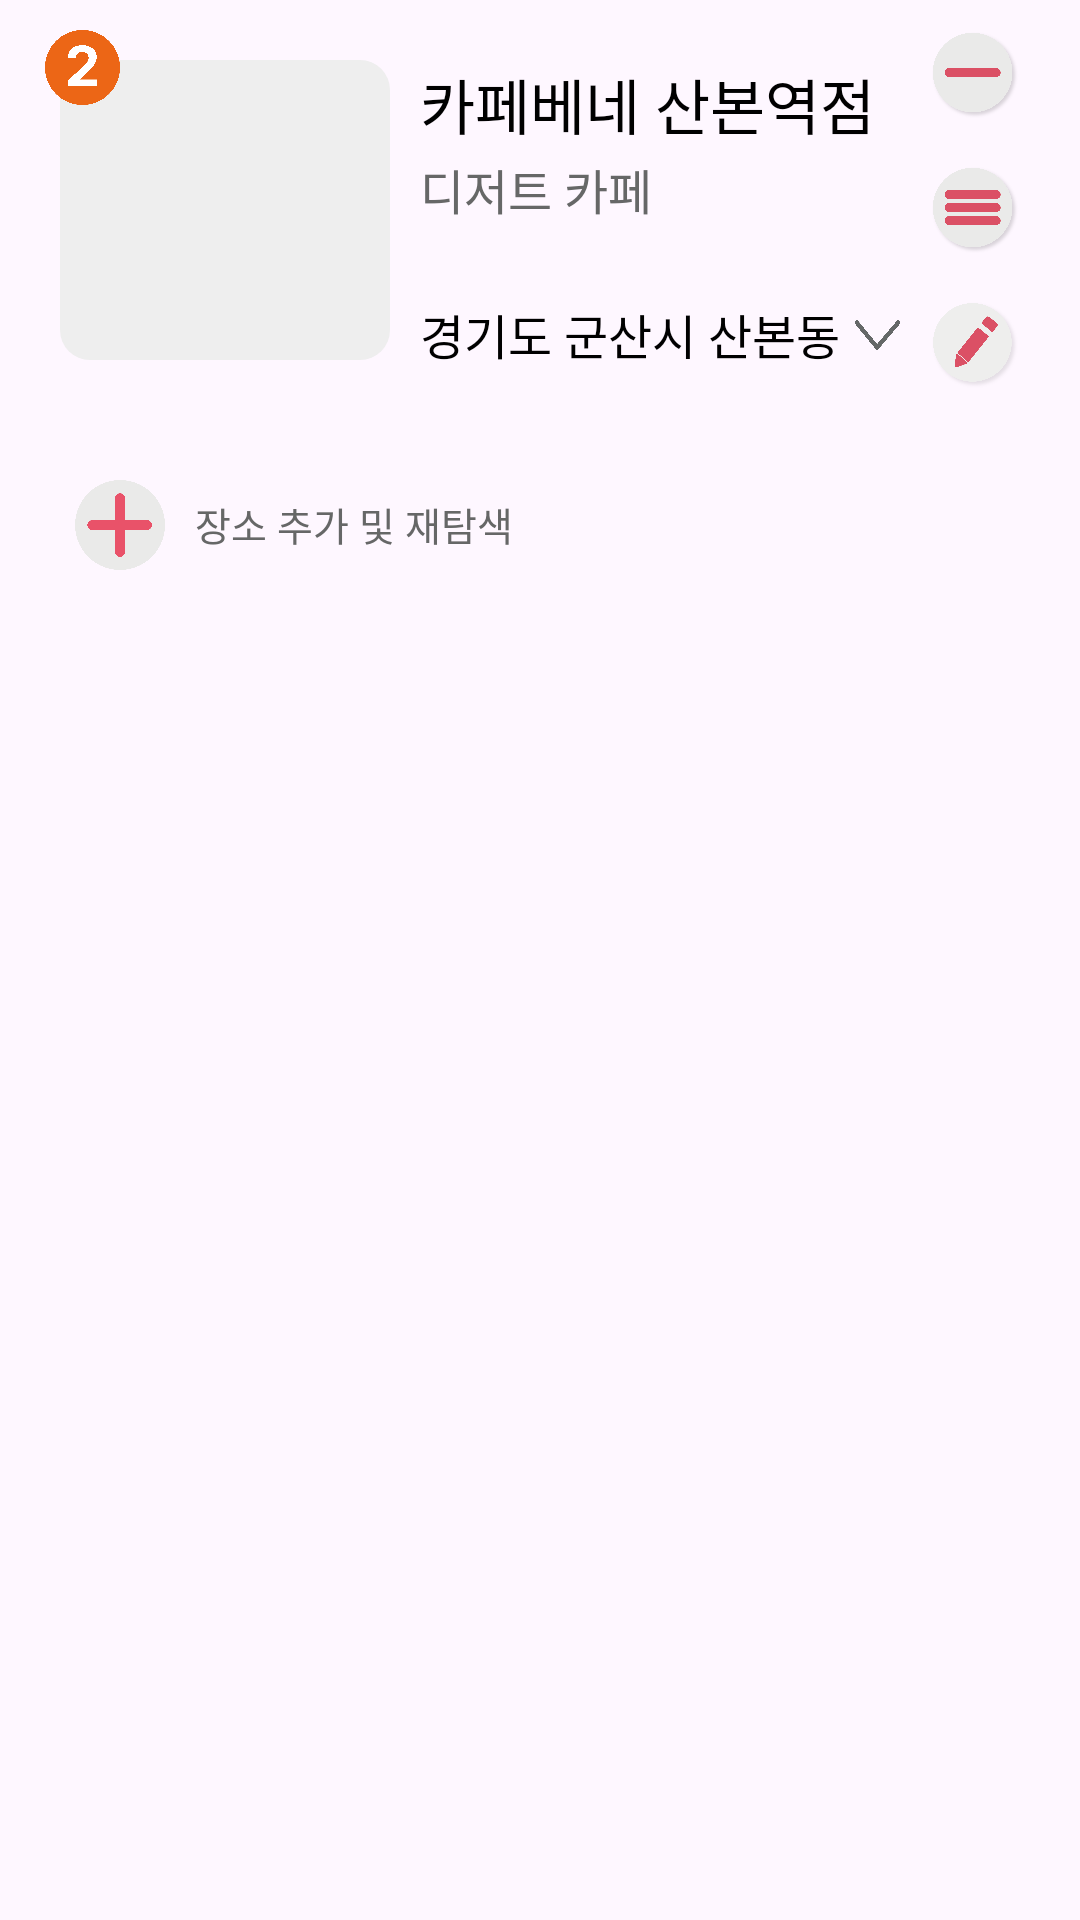

Screen size 1080 × 1920. Icon name, then its box in pixels as (x1, y1, x2, y2):
minus: (933, 33, 1016, 116)
number: (45, 30, 120, 105)
plus: (75, 480, 165, 570)
slide: (933, 168, 1016, 251)
